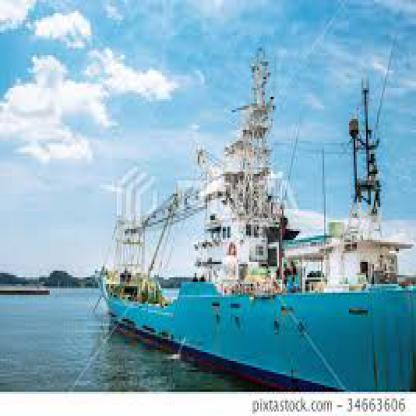fish-b: (94, 44, 414, 403)
